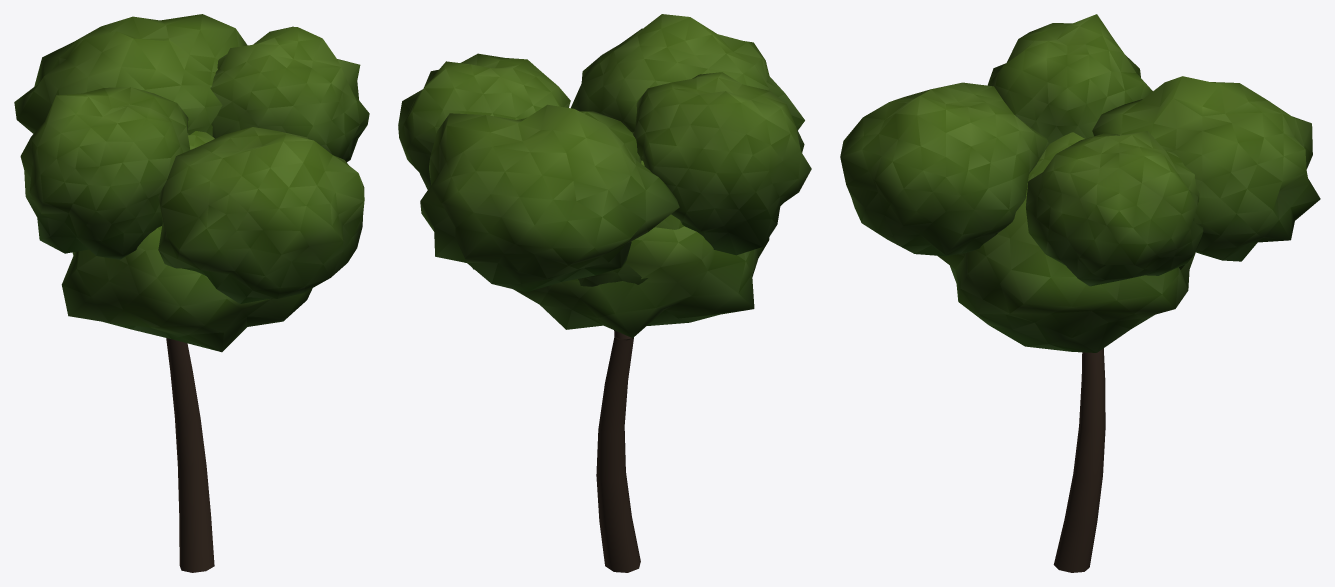
Rendered from tree_b_1.glb.
3 views of the same model, side by side, from view 1: azimuth 30°, elevation 25°; view 2: azimuth 150°, elevation 25°; view 3: azimuth 270°, elevation 25° (orthographic). The views are drawn at different scales.
Visible parts, largest first — view 1: tree_b_1; view 2: tree_b_1; view 3: tree_b_1.
Part boxes in pixels (left/top/right/bottom): tree_b_1: left=14, top=14, right=369, bottom=572; tree_b_1: left=398, top=14, right=811, bottom=572; tree_b_1: left=840, top=14, right=1320, bottom=572.
Bounding box in the file's own units: 7.23 × 9.6 × 8.51.
